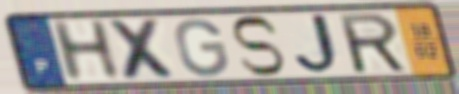G: (172, 17, 231, 79)
H: (46, 18, 125, 84)
J: (292, 11, 349, 78)
R: (334, 11, 411, 76)
S: (228, 14, 288, 78)
X: (103, 17, 184, 82)
